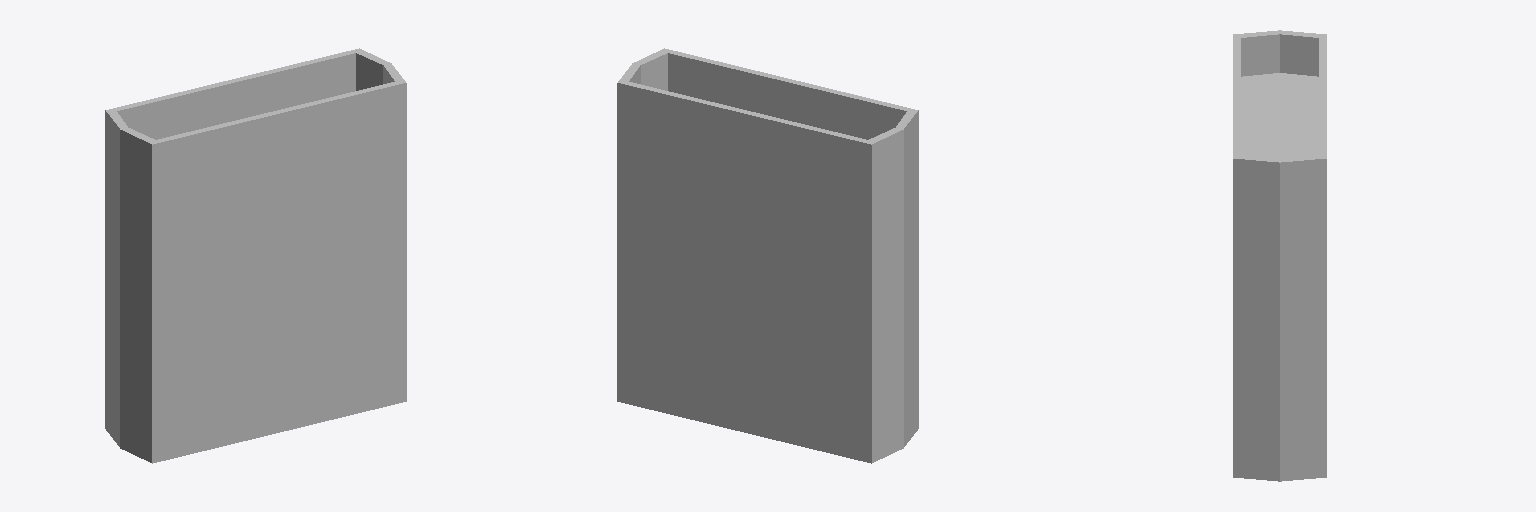
The model's file is atari-cartridge.obj.
3 renders of one model, left to right at view 1: azimuth 30°, elevation 25°; view 2: azimuth 150°, elevation 25°; view 3: azimuth 270°, elevation 25°, orthographic.
Parts seen in each view (by area): view 1: Cube; view 2: Cube; view 3: Cube.
Part boxes in pixels (x1,y1,x2,y2): Cube: (105, 48, 406, 463); Cube: (617, 48, 918, 463); Cube: (1233, 30, 1326, 481).
Bounding box in the file's own units: 2.13 × 2.4 × 0.64.